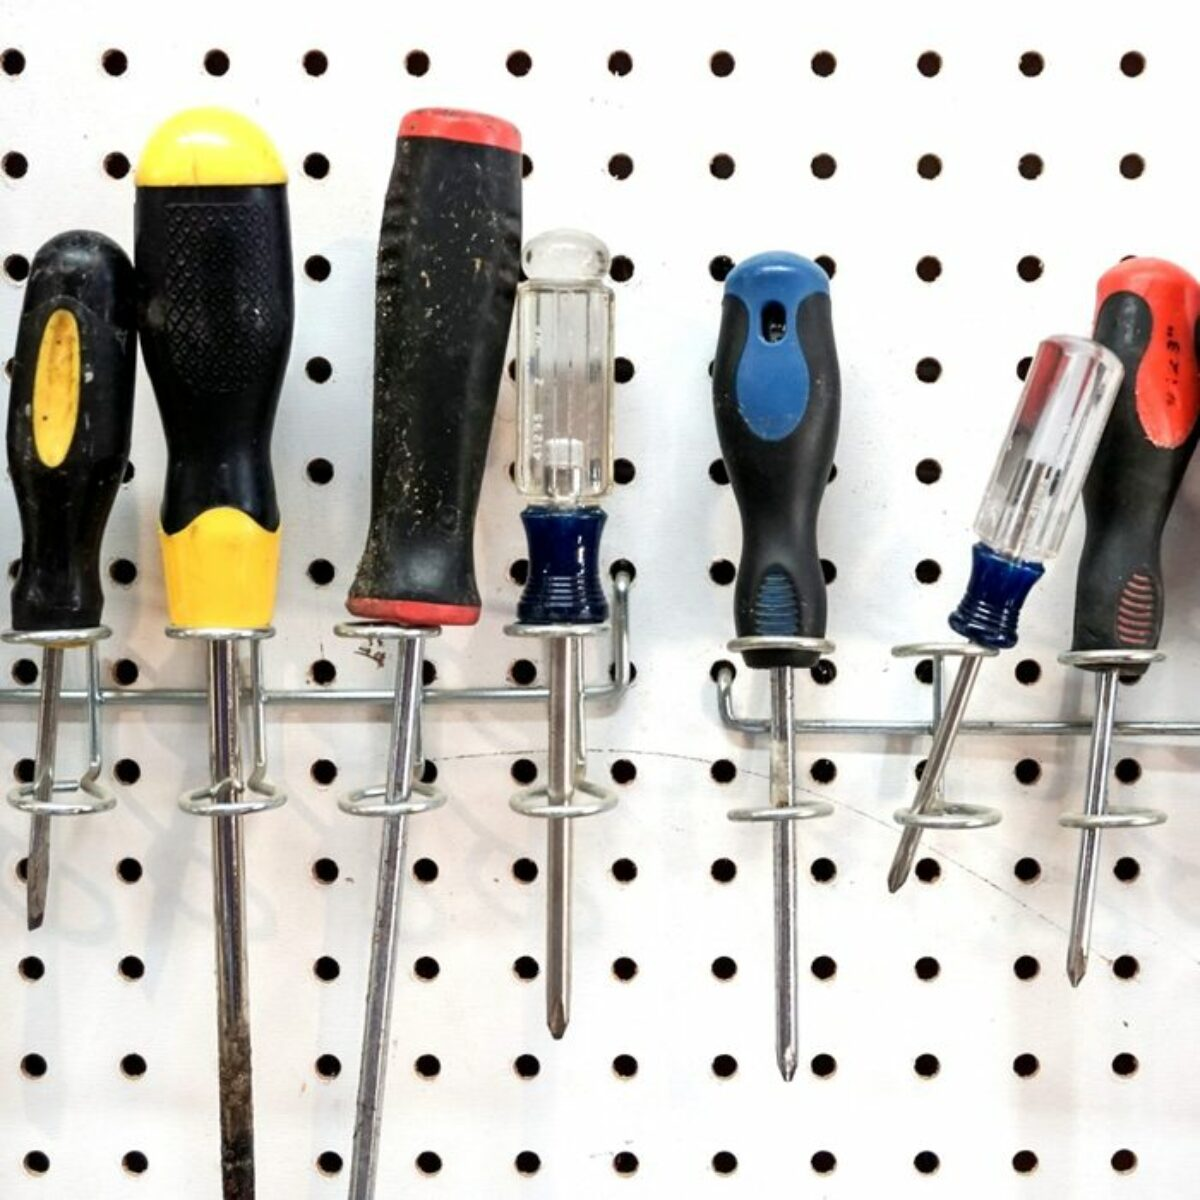screwdriver: (325, 98, 524, 1196), (137, 115, 298, 1200), (889, 332, 1127, 891), (710, 257, 846, 1093), (1063, 251, 1200, 993), (15, 225, 136, 963), (515, 225, 618, 1058)
